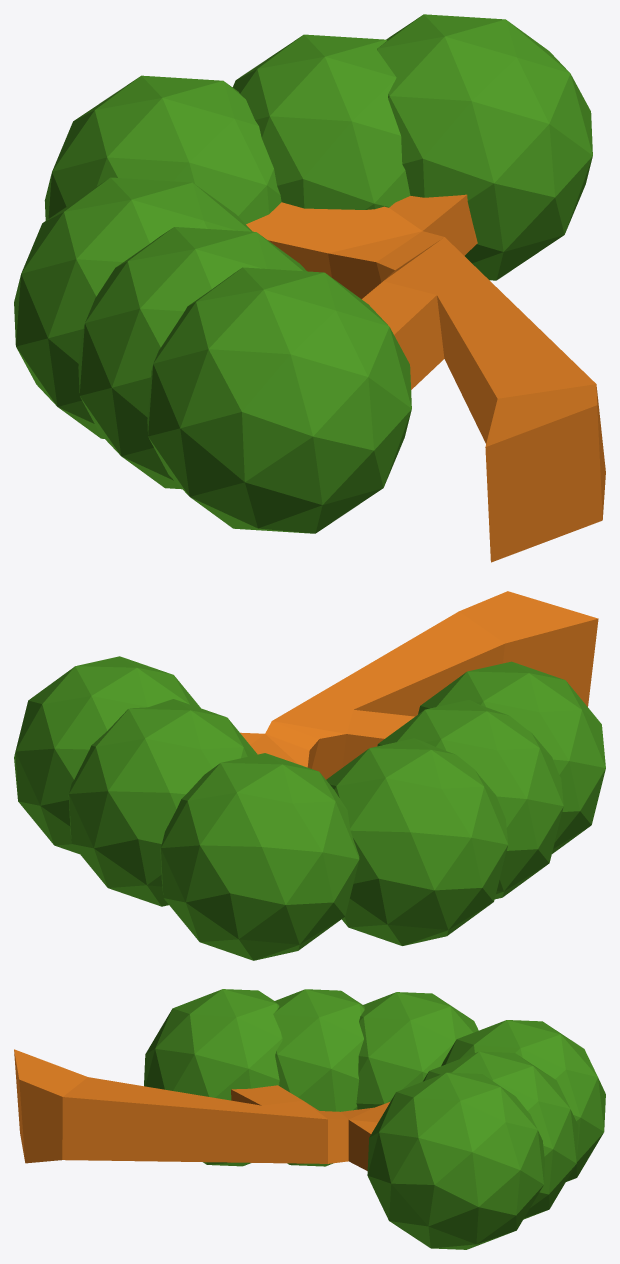
The model's file is tree4.fbx.
The picture shows the model from 3 angles, top to bottom: view 1: azimuth 30°, elevation 25°; view 2: azimuth 150°, elevation 25°; view 3: azimuth 270°, elevation 25°; orthographic projection. The views are drawn at different scales.
Visible parts, largest first — view 1: Cube.003; view 2: Cube.003; view 3: Cube.003.
Part boxes in pixels (box(x1,y1,x2,y2)): Cube.003: box(14, 14, 605, 562); Cube.003: box(14, 591, 605, 960); Cube.003: box(14, 989, 605, 1249).
Bounding box in the file's own units: 147 × 70.61 × 193.
